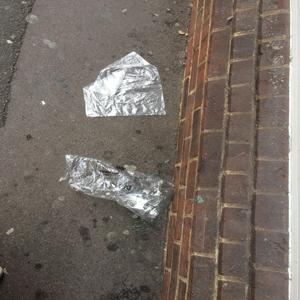plastic: (61, 153, 179, 223), (77, 52, 170, 120)
